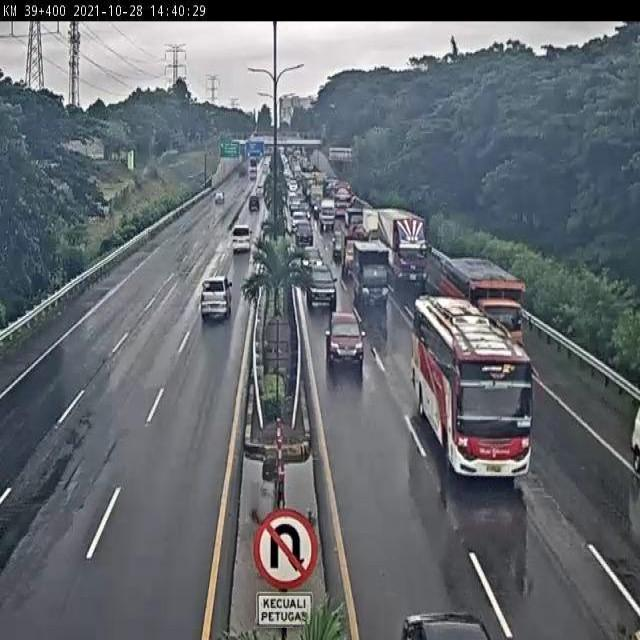bus-l-: (412, 301, 528, 479)
car: (324, 311, 364, 364), (200, 273, 234, 323), (307, 265, 337, 307), (299, 244, 324, 275), (231, 224, 255, 255)
truck-l-: (436, 257, 524, 356), (376, 208, 433, 284)
truck-m-: (353, 239, 392, 305), (340, 224, 370, 273)
